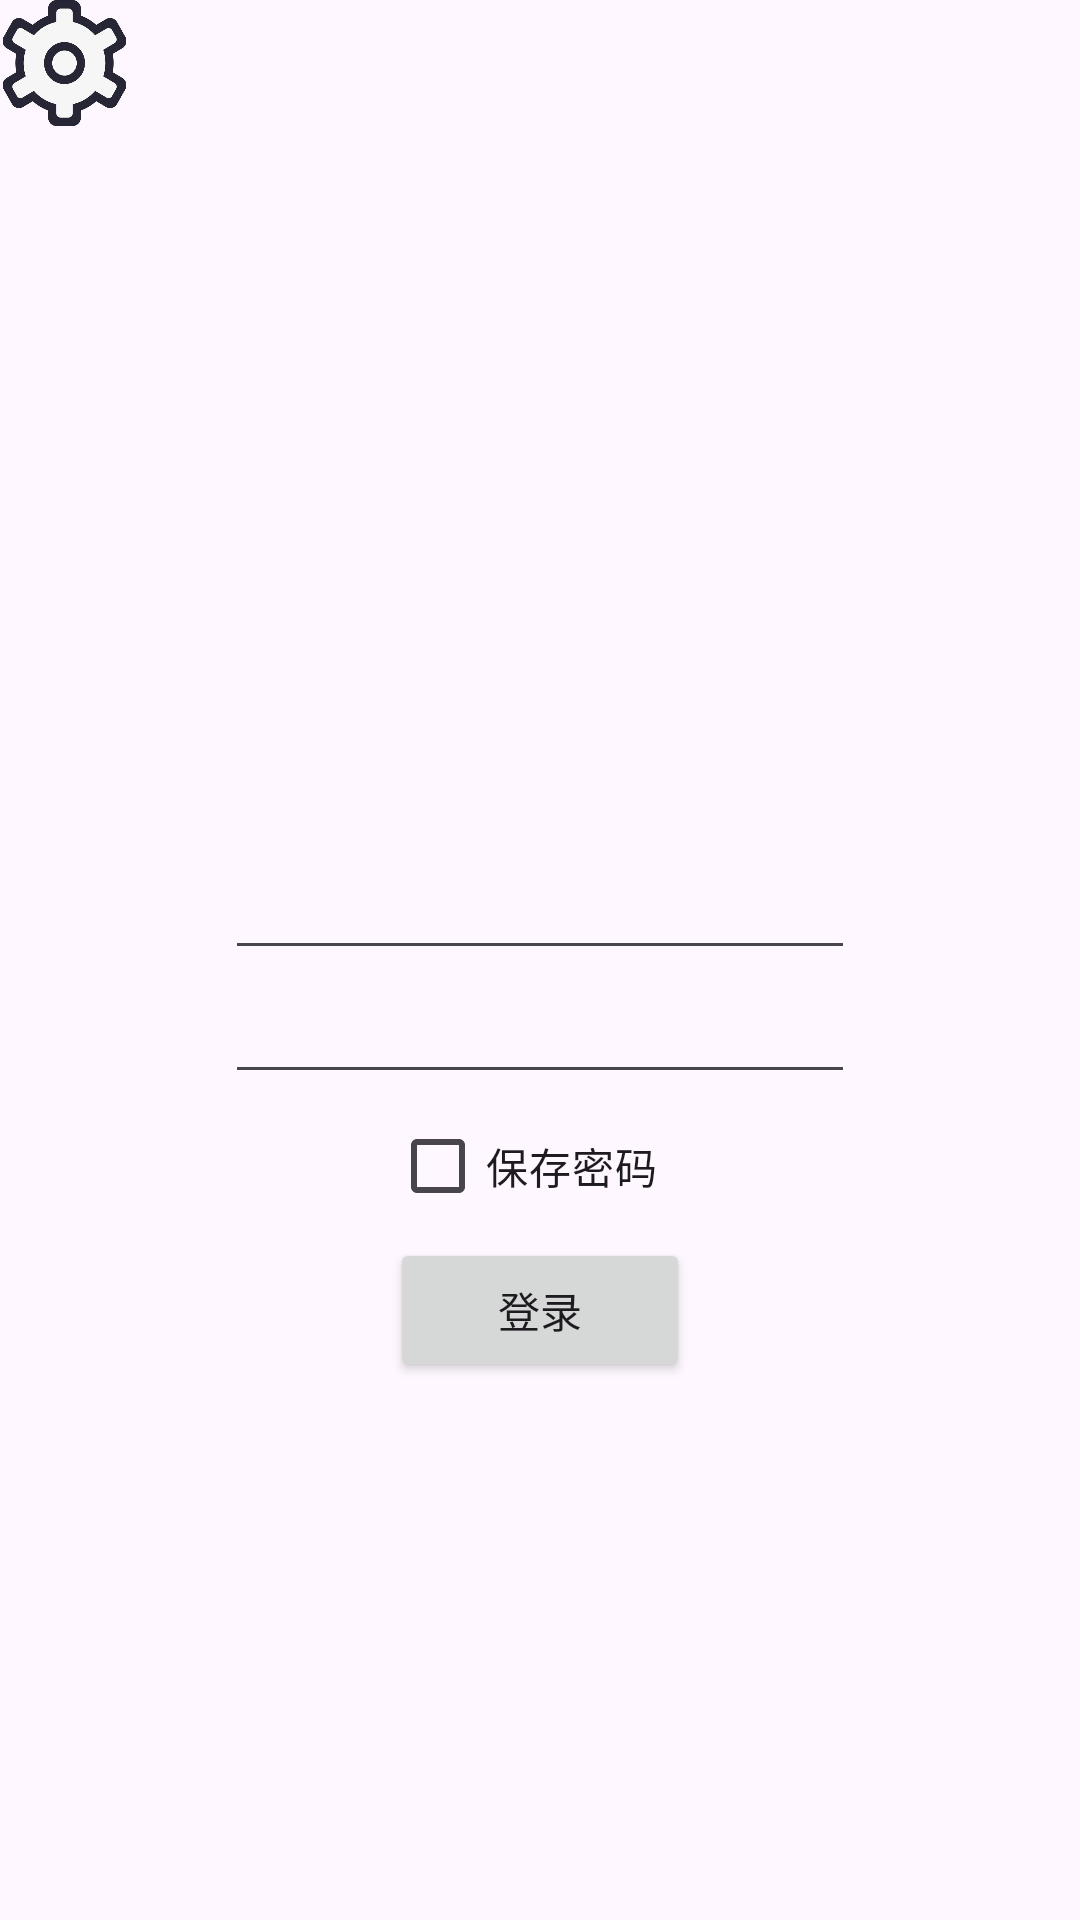

Named icons in this screenshot (1080px×1920px) and their centers, (x,y):
setting: (64,63)
